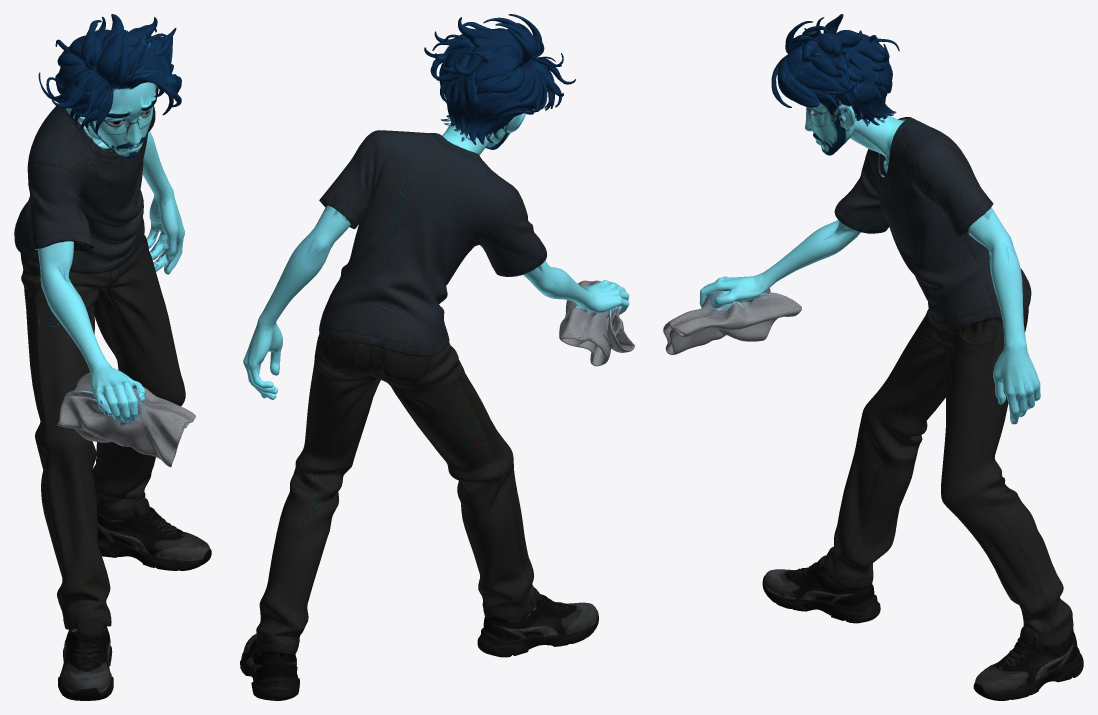
File: jota-pano-web.glb
The picture shows the model from 3 angles, left to right: view 1: azimuth 30°, elevation 25°; view 2: azimuth 150°, elevation 25°; view 3: azimuth 270°, elevation 25°; orthographic projection. The views are drawn at different scales.
Bounding box in the file's own units: 0.8577 × 1.9 × 1.21.
Materials: 1 (1 with a texture image).
